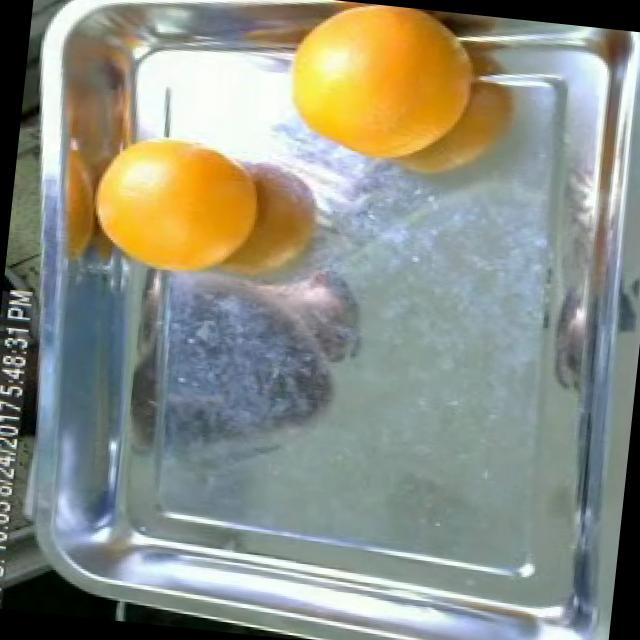Fruit: (65, 120, 286, 303)
